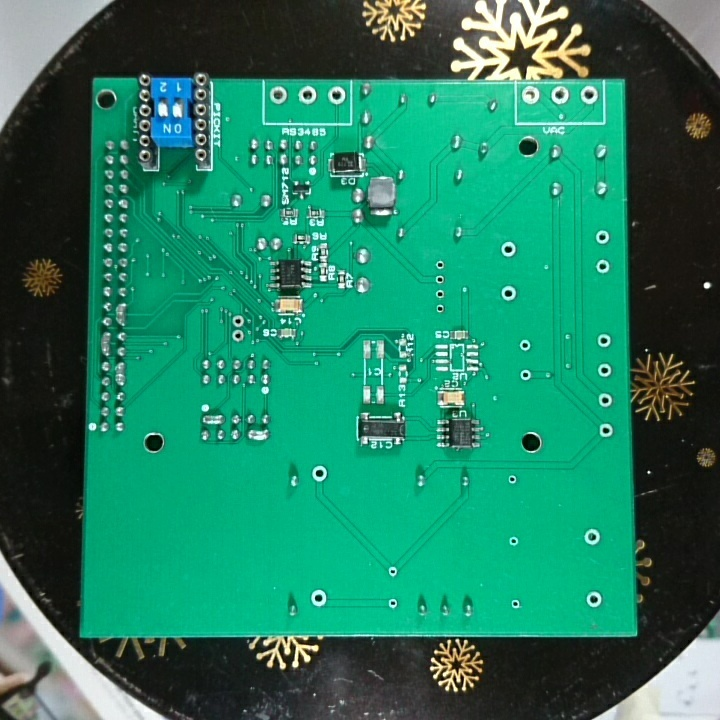F: (520, 83, 542, 107), (578, 83, 600, 107), (498, 237, 519, 262), (583, 588, 605, 610), (582, 526, 602, 550), (326, 85, 348, 106), (308, 587, 329, 609), (268, 84, 288, 107), (297, 84, 317, 107), (550, 84, 570, 106), (594, 330, 614, 352), (498, 282, 517, 305), (595, 360, 615, 381), (310, 463, 328, 485), (594, 256, 612, 277), (597, 421, 615, 440), (596, 390, 613, 409), (229, 312, 248, 329), (594, 228, 611, 246), (229, 328, 246, 344), (518, 367, 534, 384), (385, 563, 400, 581), (517, 338, 533, 354), (385, 595, 400, 612), (432, 286, 448, 301), (433, 301, 448, 317), (509, 597, 523, 613), (505, 533, 519, 549), (505, 471, 519, 487), (432, 271, 446, 286), (433, 258, 447, 272)
P: (245, 426, 273, 444), (199, 412, 227, 427), (113, 360, 128, 388), (99, 330, 113, 357), (114, 301, 128, 328)
